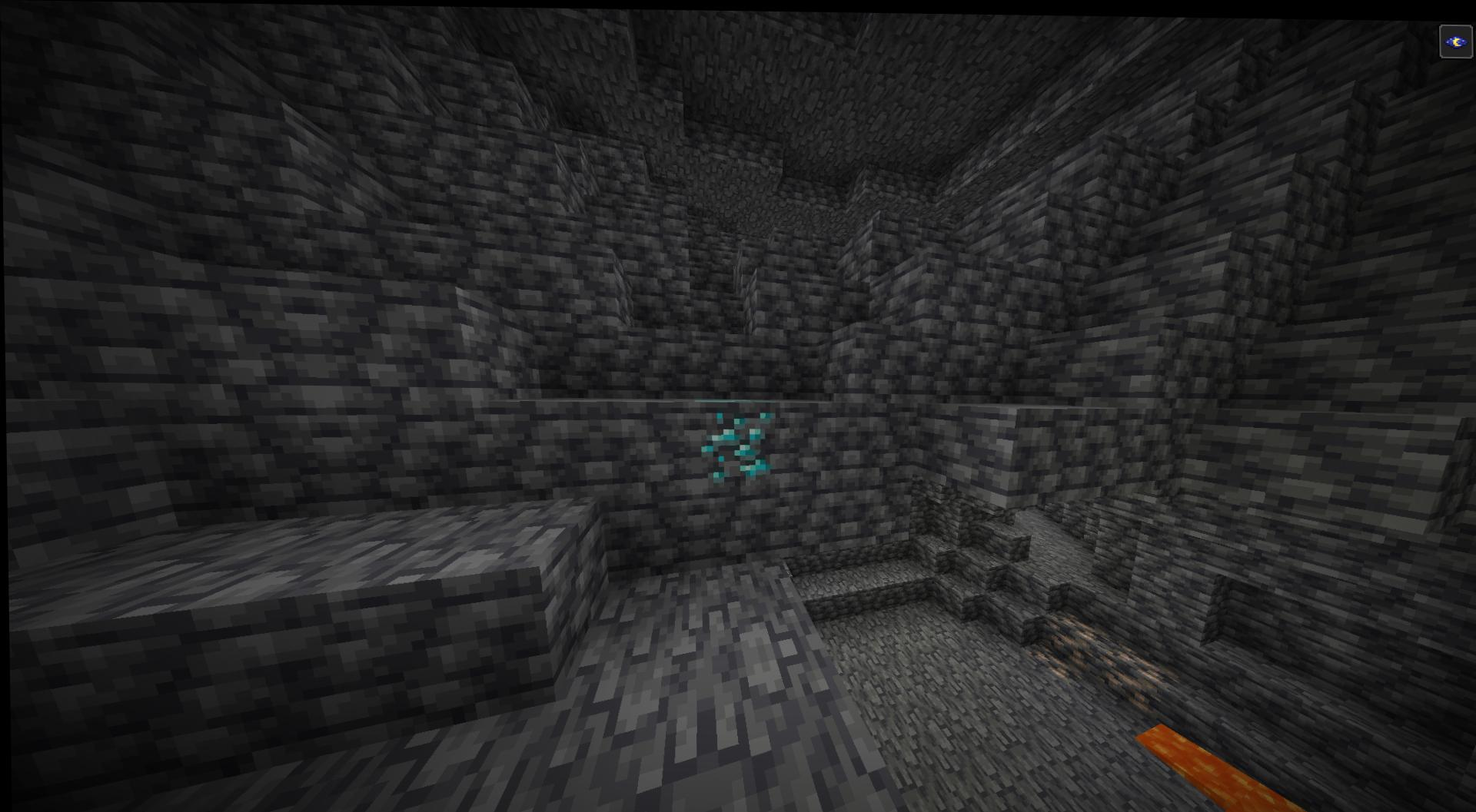diamond ore: (690, 400, 772, 481)
iron ore: (1094, 634, 1172, 713), (1043, 606, 1108, 665)
